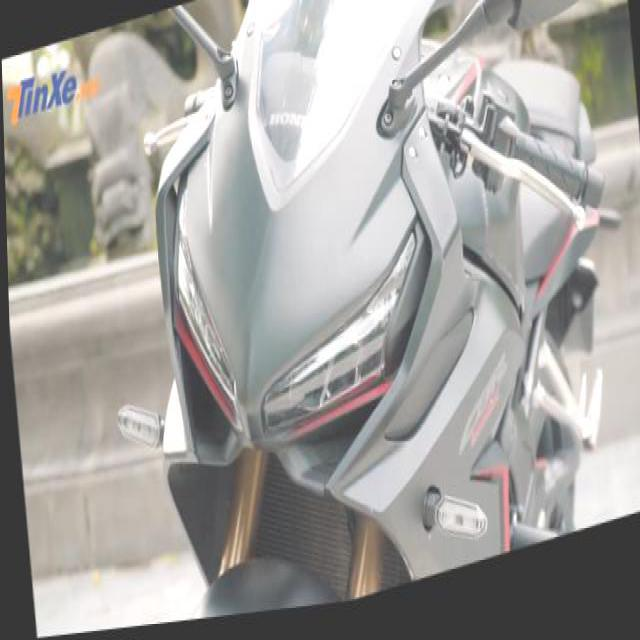CBR650R: (117, 0, 639, 628)
